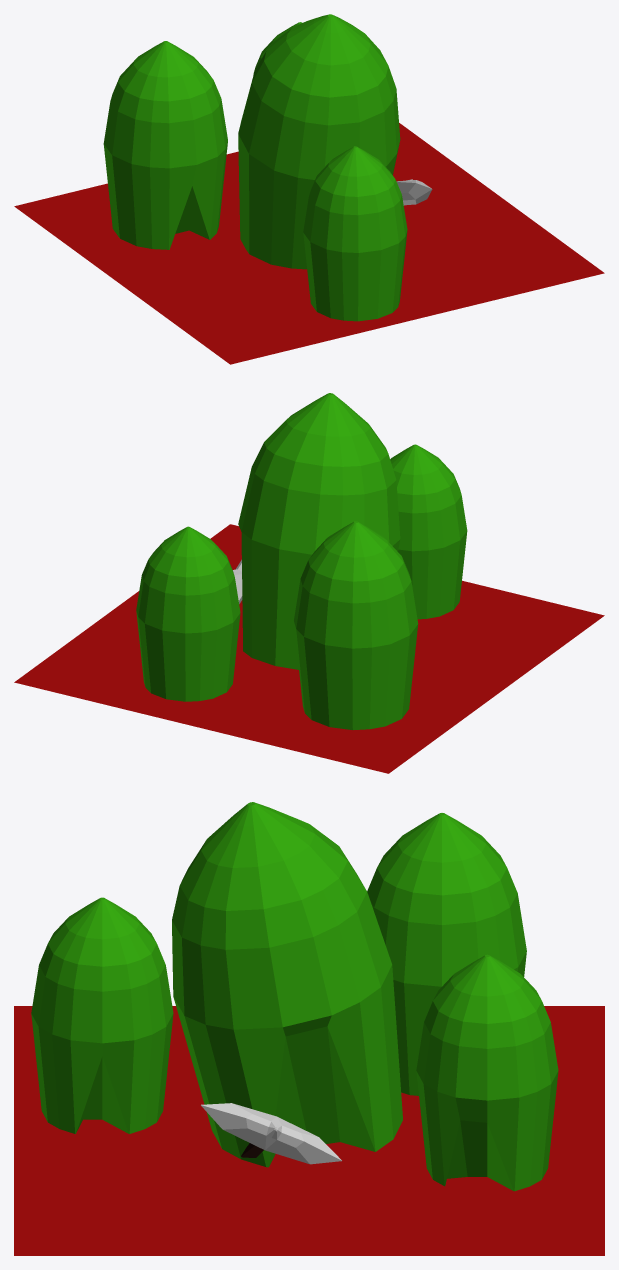
The model's file is GiantLiar1d.obj.
3 views of the same model, one above another, from view 1: azimuth 30°, elevation 25°; view 2: azimuth 150°, elevation 25°; view 3: azimuth 270°, elevation 25° (orthographic). The views are drawn at different scales.
Parts seen in each view (by area): view 1: Plane.004, Plane, Plane.003, Plane.002, Cube.001_Cube.002; view 2: Plane.004, Plane, Plane.003, Plane.001, Plane.002; view 3: Plane.004, Plane, Plane.002, Plane.001, Plane.003, Cube.001_Cube.002.
Part boxes in pixels (<box>): Plane.004: <box>14,123,604,364</box>; Plane: <box>238,14,400,269</box>; Plane.003: <box>103,41,227,249</box>; Plane.002: <box>303,146,407,321</box>; Cube.001_Cube.002: <box>396,179,432,205</box>; Plane.004: <box>14,524,604,773</box>; Plane: <box>238,393,400,669</box>; Plane.003: <box>294,521,418,729</box>; Plane.001: <box>136,526,240,701</box>; Plane.002: <box>390,444,467,619</box>; Plane.004: <box>14,1006,604,1255</box>; Plane: <box>172,802,402,1167</box>; Plane.002: <box>31,897,173,1133</box>; Plane.001: <box>416,954,558,1191</box>; Plane.003: <box>367,813,526,1095</box>; Cube.001_Cube.002: <box>201,1103,341,1164</box>.
Bounding box in the file's own units: 1.27 × 0.8143 × 1.27.
